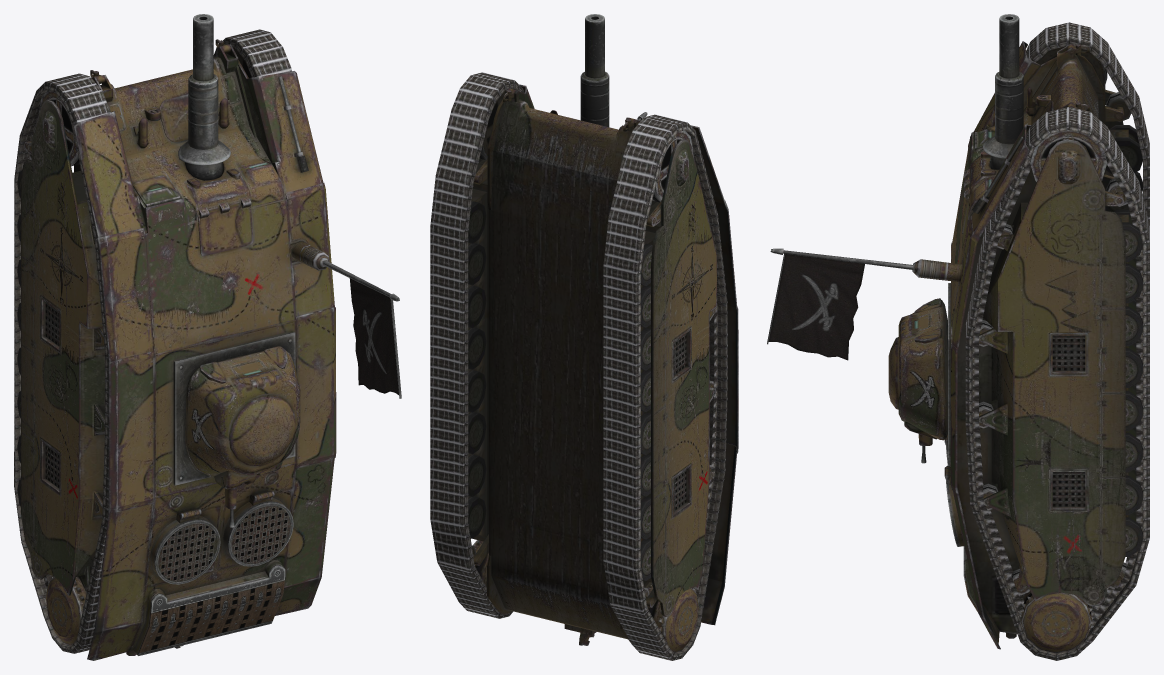
3 renders of one model, left to right at view 1: azimuth 30°, elevation 25°; view 2: azimuth 150°, elevation 25°; view 3: azimuth 270°, elevation 25°, orthographic. The views are drawn at different scales.
Parts seen in each view (by area): view 1: hull, chassis_track_L, F34_ARL_V39_BP_flag.sc2, gun_01_mask, chassis_track_R, chassis_wheel_L_12, gun_01, hull_hide_elements, chassis_wheel_L_01; view 2: hull, chassis_track_L, chassis_track_R, chassis_wheel_L_12, gun_01_mask, gun_01, hull_hide_elements, chassis_wheel_L_01, chassis_wheel_R_05, chassis_wheel_R_08, chassis_wheel_R_07, chassis_wheel_R_04 (+4 smaller); view 3: hull, chassis_track_R, F34_ARL_V39_BP_flag.sc2, chassis_track_L, chassis_wheel_R_12, gun_01_mask, hull_hide_elements, chassis_wheel_R_01, gun_01, chassis_wheel_L_03, chassis_wheel_R_03, chassis_wheel_R_05 (+6 smaller).
Part boxes in pixels (left/top/right/bottom): hull: left=21, top=39, right=401, bottom=660; chassis_track_L: left=14, top=73, right=110, bottom=653; F34_ARL_V39_BP_flag.sc2: left=349, top=278, right=398, bottom=394; gun_01_mask: left=178, top=74, right=230, bottom=180; chassis_track_R: left=213, top=29, right=297, bottom=261; chassis_wheel_L_12: left=46, top=576, right=86, bottom=645; gun_01: left=193, top=14, right=213, bottom=81; hull_hide_elements: left=45, top=302, right=59, bottom=488; chassis_wheel_L_01: left=38, top=90, right=79, bottom=165; hull: left=468, top=84, right=738, bottom=645; chassis_track_L: left=603, top=114, right=727, bottom=660; chassis_track_R: left=430, top=72, right=523, bottom=618; chassis_wheel_L_12: left=645, top=582, right=698, bottom=652; gun_01_mask: left=580, top=71, right=609, bottom=127; gun_01: left=585, top=14, right=604, bottom=78; hull_hide_elements: left=673, top=333, right=686, bottom=511; chassis_wheel_L_01: left=652, top=130, right=693, bottom=202; chassis_wheel_R_05: left=468, top=285, right=486, bottom=328; chassis_wheel_R_08: left=468, top=412, right=486, bottom=454; chassis_wheel_R_07: left=468, top=370, right=486, bottom=412; chassis_wheel_R_04: left=468, top=243, right=486, bottom=285; hull: left=767, top=41, right=1128, bottom=649; chassis_track_R: left=965, top=107, right=1149, bottom=660; F34_ARL_V39_BP_flag.sc2: left=768, top=254, right=864, bottom=360; chassis_track_L: left=1026, top=22, right=1149, bottom=226; chassis_wheel_R_12: left=1018, top=591, right=1094, bottom=653; gun_01_mask: left=983, top=72, right=1023, bottom=169; hull_hide_elements: left=1052, top=335, right=1085, bottom=506; chassis_wheel_R_01: left=1030, top=130, right=1107, bottom=181; gun_01: left=999, top=14, right=1019, bottom=78; chassis_wheel_L_03: left=1105, top=125, right=1142, bottom=174; chassis_wheel_R_03: left=1113, top=209, right=1142, bottom=261; chassis_wheel_R_05: left=1125, top=299, right=1142, bottom=346.
Bounding box in the file's own units: 2.47 × 6.43 × 3.64.
2 materials, 2 textured.
